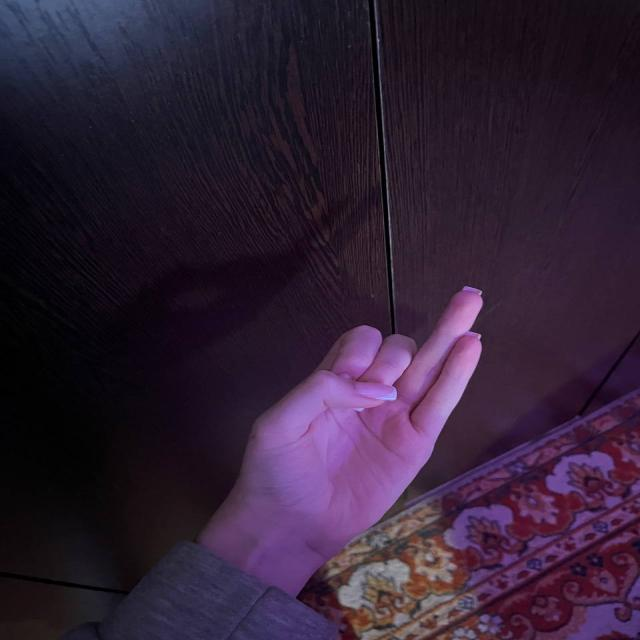i: (271, 265, 511, 543)
